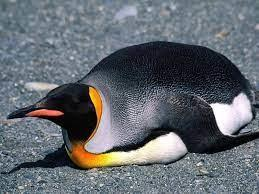king: (5, 30, 259, 170)
